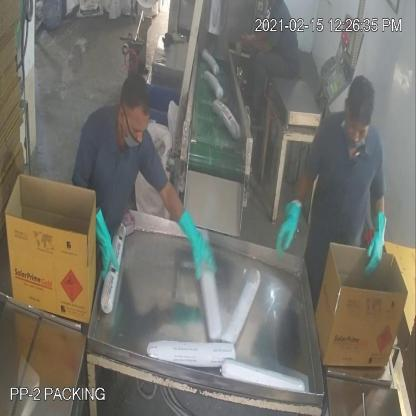glove: (164, 199, 223, 287), (87, 202, 123, 288), (269, 198, 309, 272), (361, 198, 391, 284)
no_glove: (238, 35, 277, 60)
